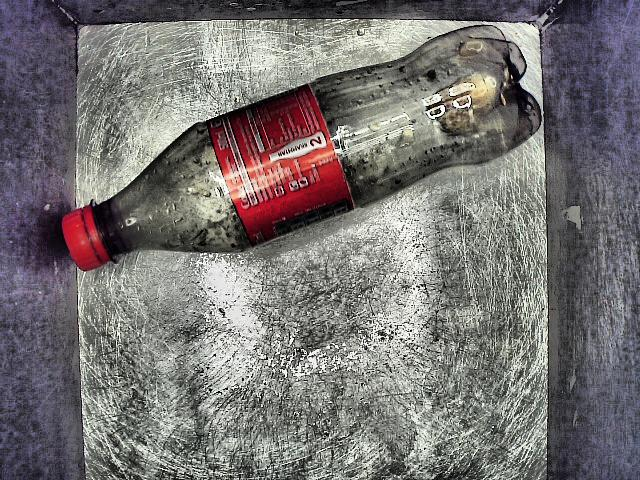Bottles: (52, 0, 550, 340)
